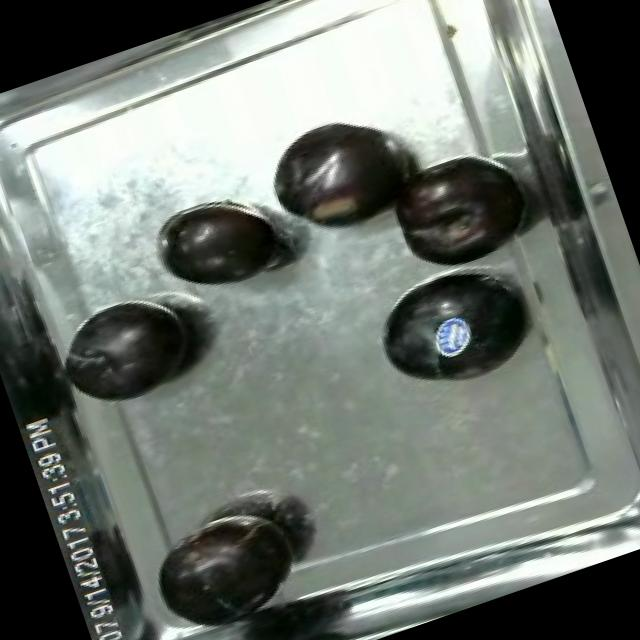Fruit: (354, 243, 546, 413), (133, 486, 321, 640), (254, 96, 429, 250), (45, 277, 214, 423), (375, 138, 539, 284), (150, 182, 292, 308)
